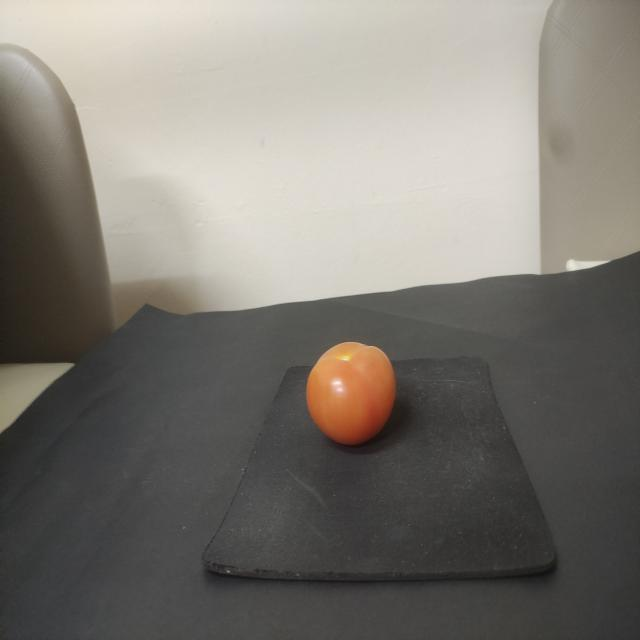sari: (296, 321, 400, 450)
